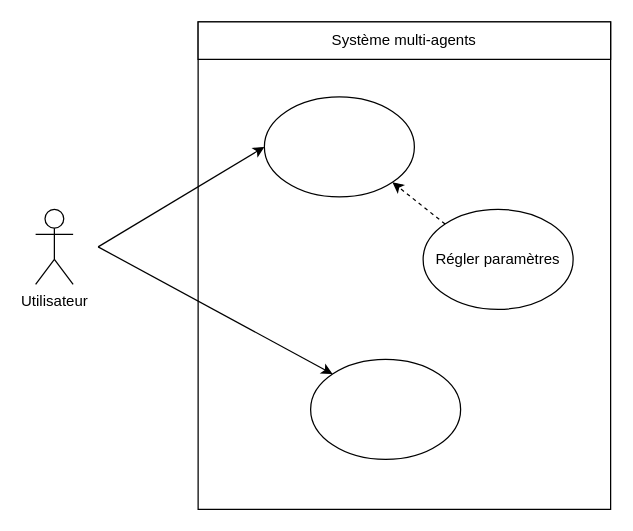
Image size: 633x531. Some labels were removed from this diagram. Each missing label, with the centre of its shape:
Lancer une simulation: pixel 338 146
Récupérer informations: pixel 385 408
